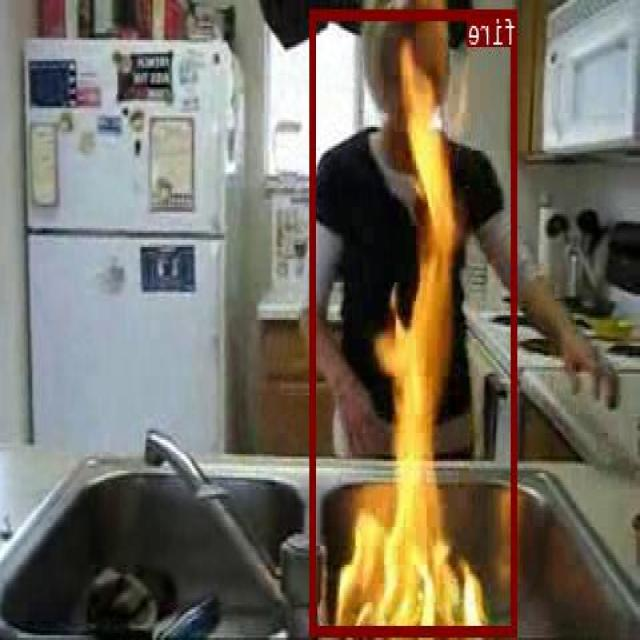fire: (312, 9, 518, 633)
